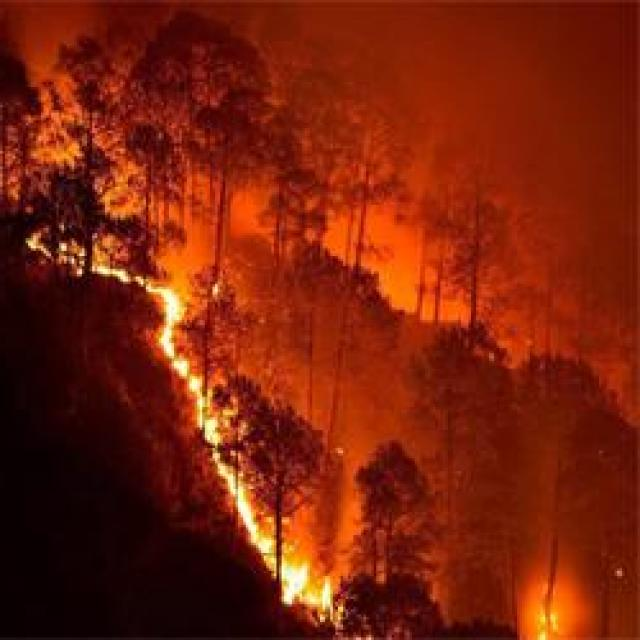fire: (283, 562, 309, 602), (158, 322, 176, 362), (163, 294, 183, 328), (239, 494, 255, 528), (202, 416, 220, 444)
